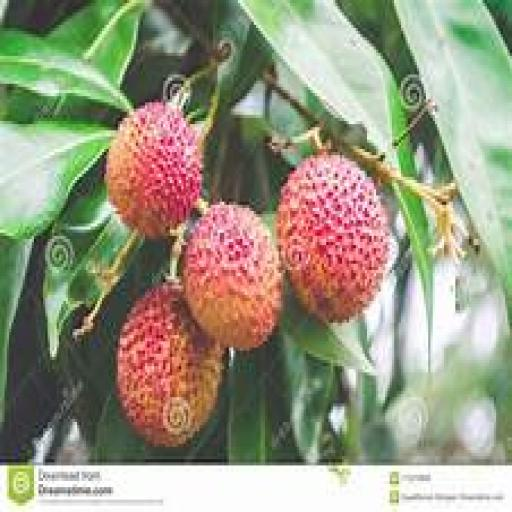lychee: (277, 156, 389, 322), (118, 283, 224, 446), (184, 202, 283, 350), (107, 103, 201, 238)
